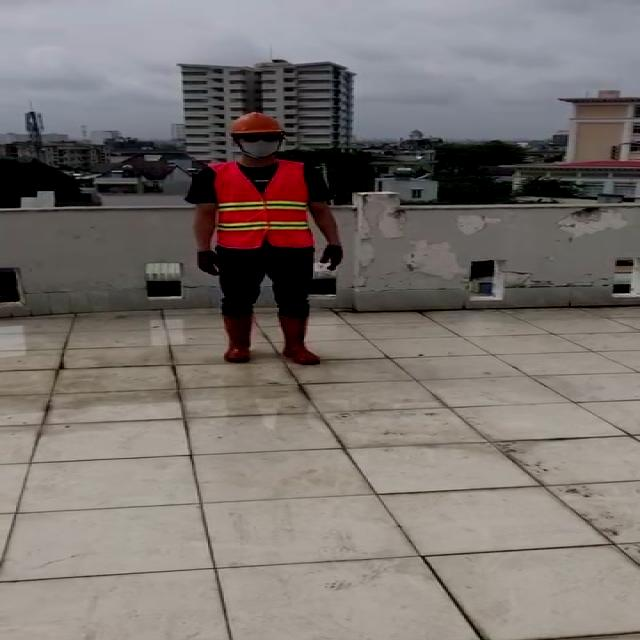boots: (276, 316, 318, 366), (218, 311, 256, 363)
helmet: (181, 110, 356, 366), (220, 110, 286, 134)
vest: (211, 160, 313, 250)
